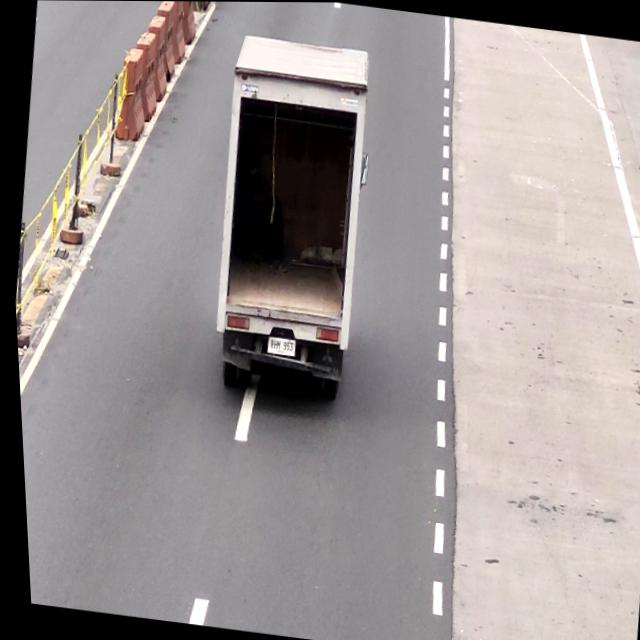License-Plate: (261, 335, 295, 358)
Truck: (194, 33, 382, 402)
